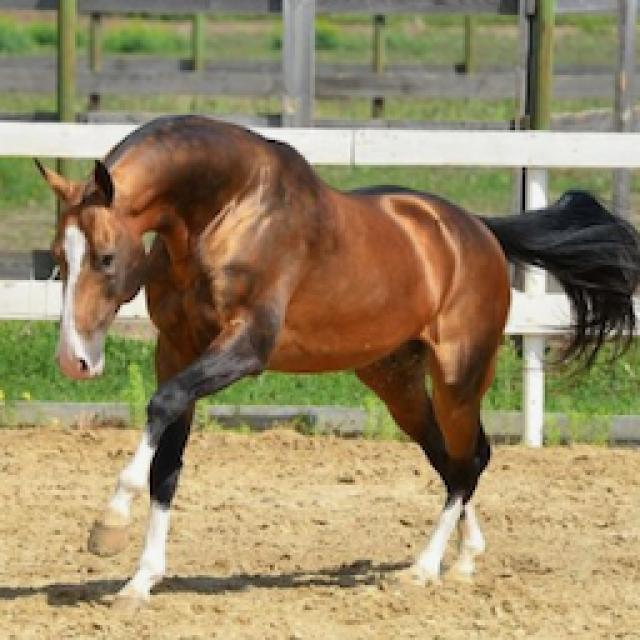Horse: (25, 108, 638, 620)
